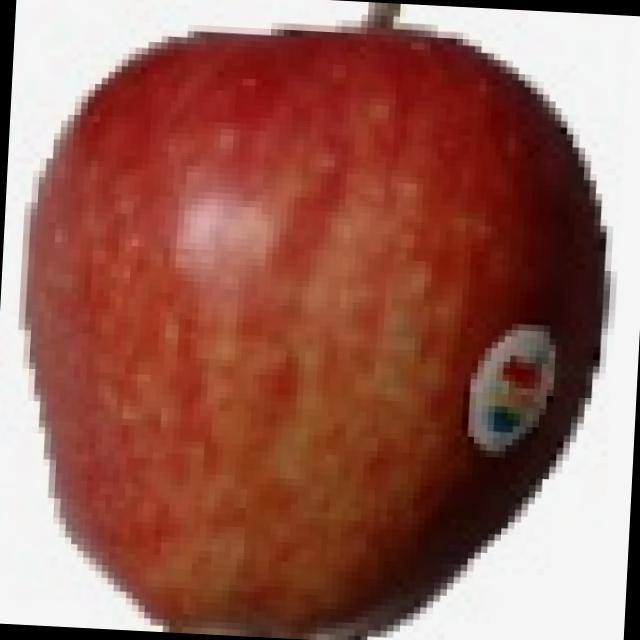apple: (9, 0, 635, 640)
